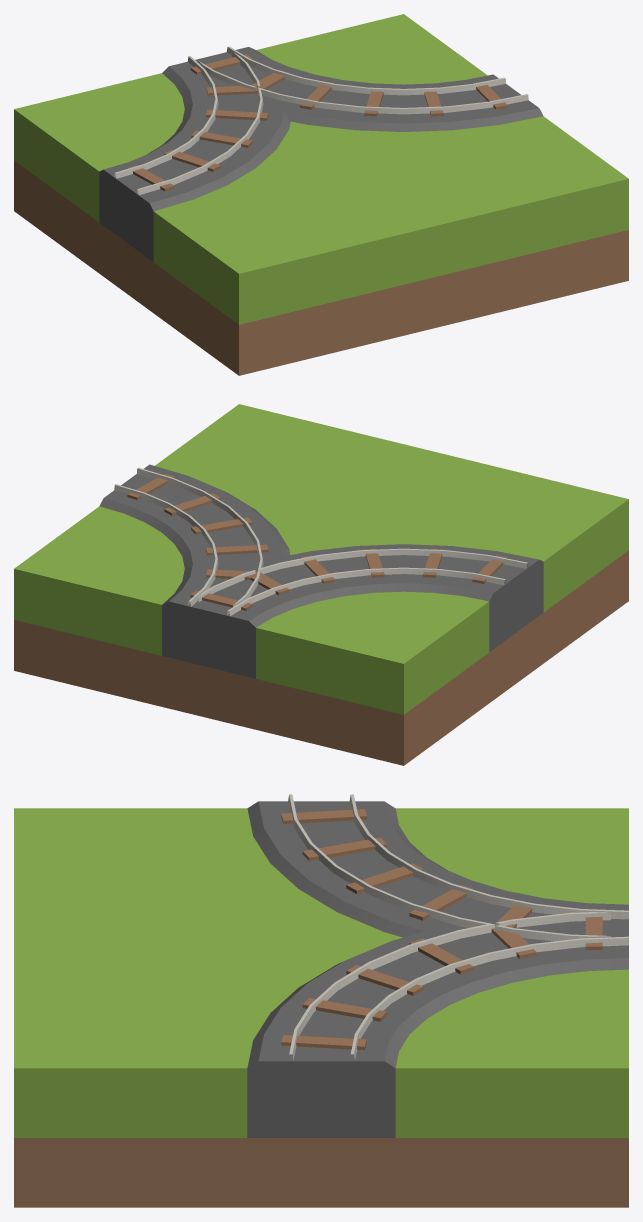
File: rail_split.fbx
3 views of the same model, one above another, from view 1: azimuth 30°, elevation 25°; view 2: azimuth 150°, elevation 25°; view 3: azimuth 270°, elevation 25° (orthographic). The views are drawn at different scales.
Visible parts, largest first — view 1: landscape-track-1-tjunction; view 2: landscape-track-1-tjunction; view 3: landscape-track-1-tjunction.
Boxes of the visible parts, <box> form: landscape-track-1-tjunction: <box>14,14,628,375</box>; landscape-track-1-tjunction: <box>14,404,628,765</box>; landscape-track-1-tjunction: <box>14,794,628,1207</box>.
Bounding box in the file's own units: 8 × 2.2 × 8.
Materials: 1 (1 with a texture image).
